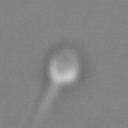normal: (23, 86, 62, 127)
